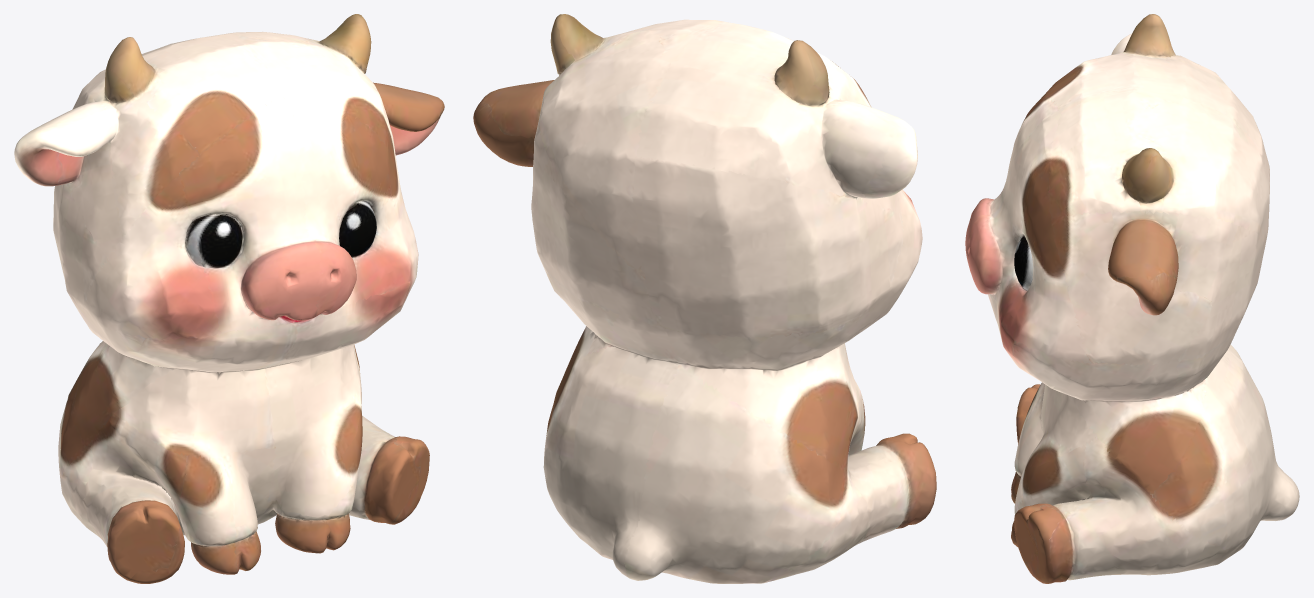
3 views of the same model, side by side, from view 1: azimuth 30°, elevation 25°; view 2: azimuth 150°, elevation 25°; view 3: azimuth 270°, elevation 25° (orthographic). The views are drawn at different scales.
Size of the model in its own units: 1.7 by 1.9 by 1.22.
1 material, 1 textured.
